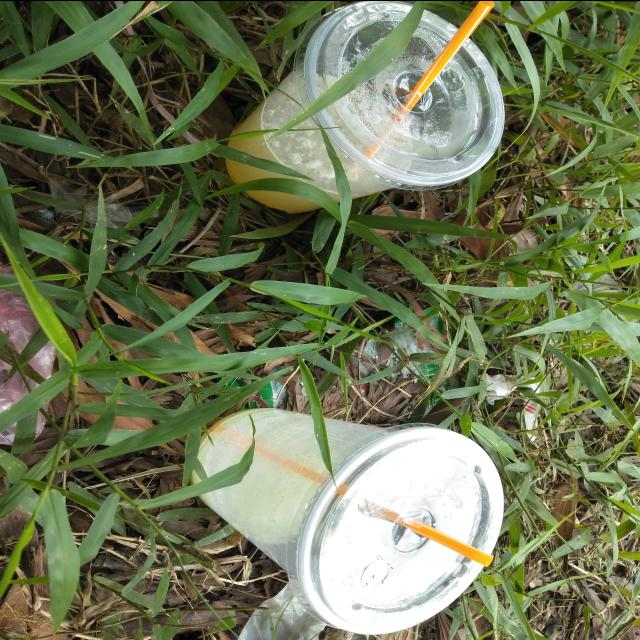Disposable plastic cup: (191, 407, 504, 634), (225, 1, 506, 213)
Plastic film: (47, 177, 150, 228), (237, 582, 327, 640)
Plastic lid: (287, 422, 504, 634), (293, 1, 505, 190)
Plastic straw: (213, 424, 494, 566), (366, 1, 494, 156)
